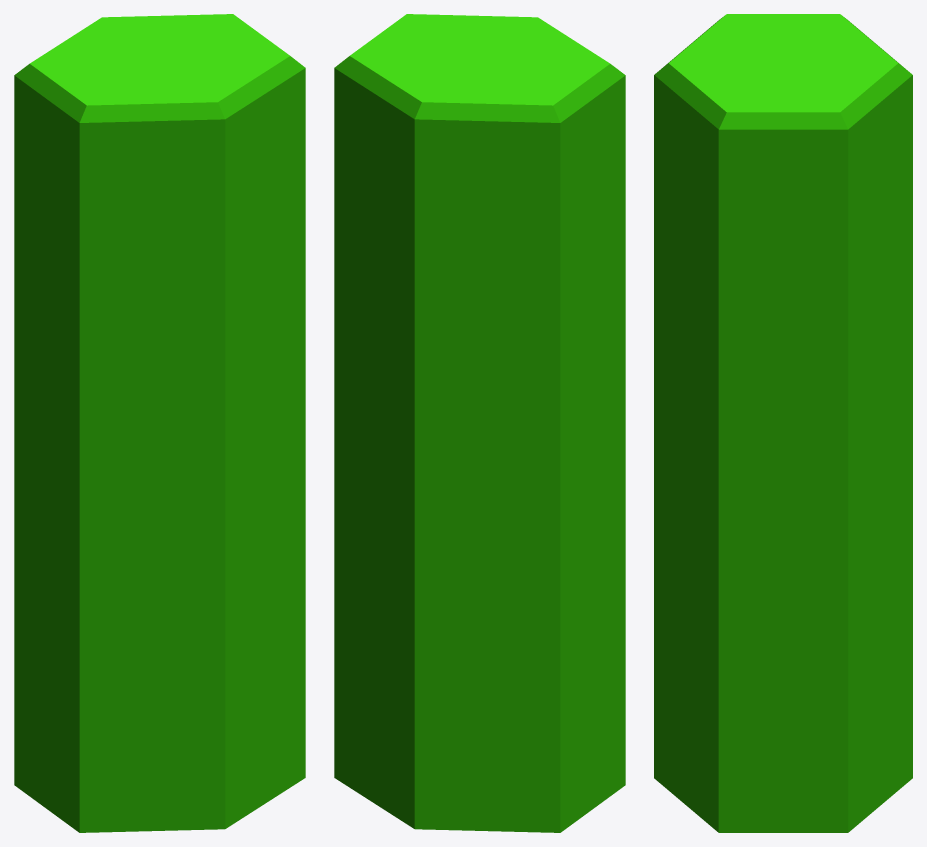
Rendered from Hexagon_G.fbx.
3 renders of one model, left to right at view 1: azimuth 30°, elevation 25°; view 2: azimuth 150°, elevation 25°; view 3: azimuth 270°, elevation 25°, orthographic.
Parts seen in each view (by area): view 1: Hexagon_G; view 2: Hexagon_G; view 3: Hexagon_G.
Boxes of the visible parts, left/top/right/bottom form: Hexagon_G: left=14, top=14, right=305, bottom=832; Hexagon_G: left=334, top=14, right=625, bottom=832; Hexagon_G: left=654, top=14, right=912, bottom=832.
Bounding box in the file's own units: 100 × 305 × 100.
